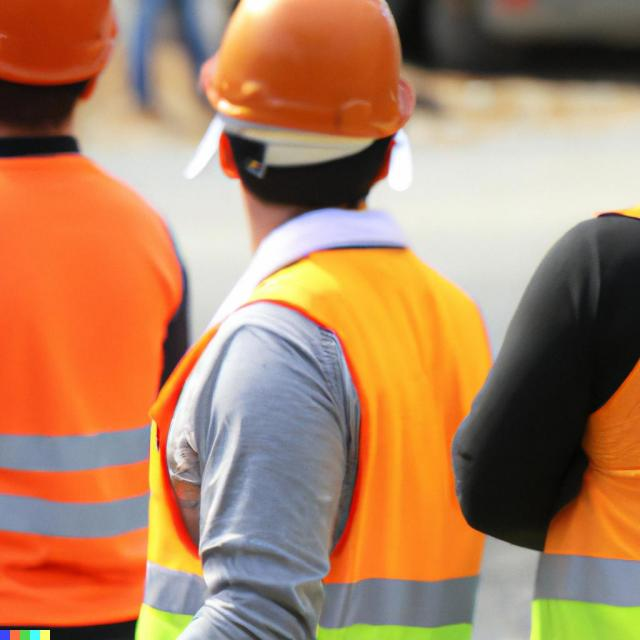Reflective-Jacket: (138, 239, 504, 640), (6, 134, 182, 623), (531, 184, 640, 636)
Safety-Helmet: (200, 1, 420, 150), (0, 1, 124, 88)
